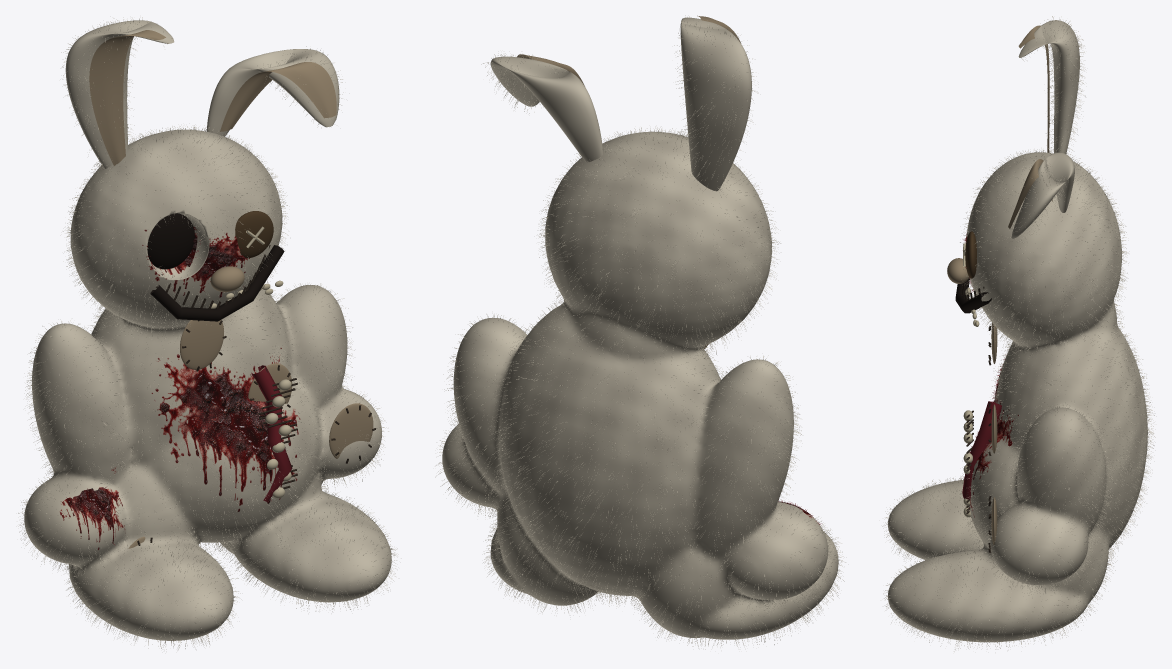
The model's file is mascot-web.glb.
3 views of the same model, side by side, from view 1: azimuth 30°, elevation 25°; view 2: azimuth 150°, elevation 25°; view 3: azimuth 270°, elevation 25° (orthographic). The views are drawn at different scales.
Parts seen in each view (by area): view 1: Continuous deformed sewn mascot, Blood absorbed around open seams, Dense curved and matted fur, Tall buckled ear, Broken hanging ear, Inset sewn ear lining, Inset sewn ear lining.001, Split black stitched smile, Deep missing eye, Thick stitched repair patch.001, Thick stitched repair patch.003, Torn abdomen seam (+3 smaller); view 2: Continuous deformed sewn mascot, Dense curved and matted fur, Tall buckled ear, Broken hanging ear; view 3: Continuous deformed sewn mascot, Dense curved and matted fur, Tall buckled ear, Broken hanging ear, Torn abdomen seam, Blood absorbed around open seams, Split black stitched smile, Inset sewn ear lining.001, Inset sewn ear lining, Single hanging button, Torn triangular nose.
Boxes of the visible parts, x1,y1,x2,y2 form: Continuous deformed sewn mascot: (24, 129, 391, 640); Blood absorbed around open seams: (59, 227, 300, 549); Dense curved and matted fur: (18, 17, 397, 649); Tall buckled ear: (65, 20, 174, 168); Broken hanging ear: (206, 49, 339, 136); Inset sewn ear lining: (89, 30, 165, 165); Inset sewn ear lining.001: (220, 62, 336, 131); Split black stitched smile: (150, 245, 284, 321); Deep missing eye: (147, 213, 194, 269); Thick stitched repair patch.001: (180, 320, 223, 369); Thick stitched repair patch.003: (329, 403, 373, 458); Torn abdomen seam: (251, 365, 292, 501); Continuous deformed sewn mascot: (442, 131, 838, 639); Dense curved and matted fur: (435, 15, 845, 649); Tall buckled ear: (680, 17, 751, 191); Broken hanging ear: (490, 56, 603, 162); Continuous deformed sewn mascot: (887, 152, 1147, 642); Dense curved and matted fur: (882, 16, 1155, 651); Tall buckled ear: (1018, 20, 1079, 153); Broken hanging ear: (1011, 152, 1074, 238); Torn abdomen seam: (962, 401, 1001, 499); Blood absorbed around open seams: (965, 233, 1018, 517); Split black stitched smile: (955, 278, 991, 313); Inset sewn ear lining.001: (1008, 159, 1052, 228); Inset sewn ear lining: (1018, 25, 1049, 152); Single hanging button: (965, 231, 976, 278); Torn triangular nose: (947, 258, 968, 283).
Size of the model in its own units: 3.29 by 5.03 by 2.37.
Materials: 10 (1 with a texture image).
